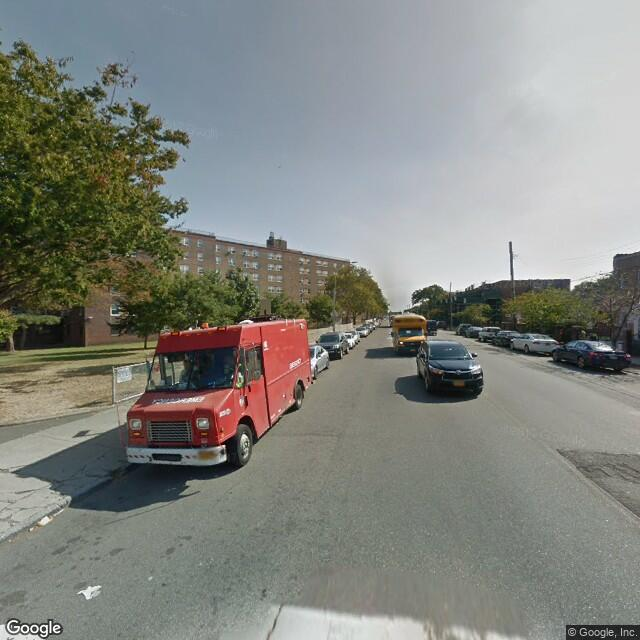litter: (38, 519, 53, 528), (26, 529, 39, 536), (145, 574, 153, 580)
